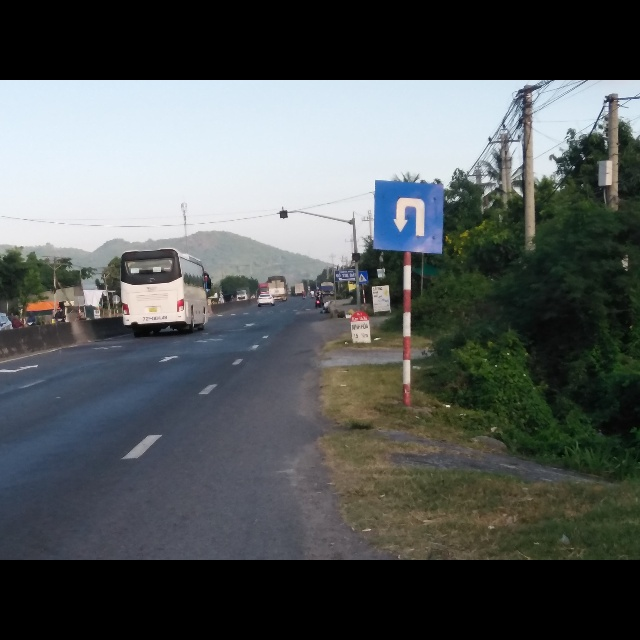Khu vực quay đầu xe: (373, 180, 447, 255)
